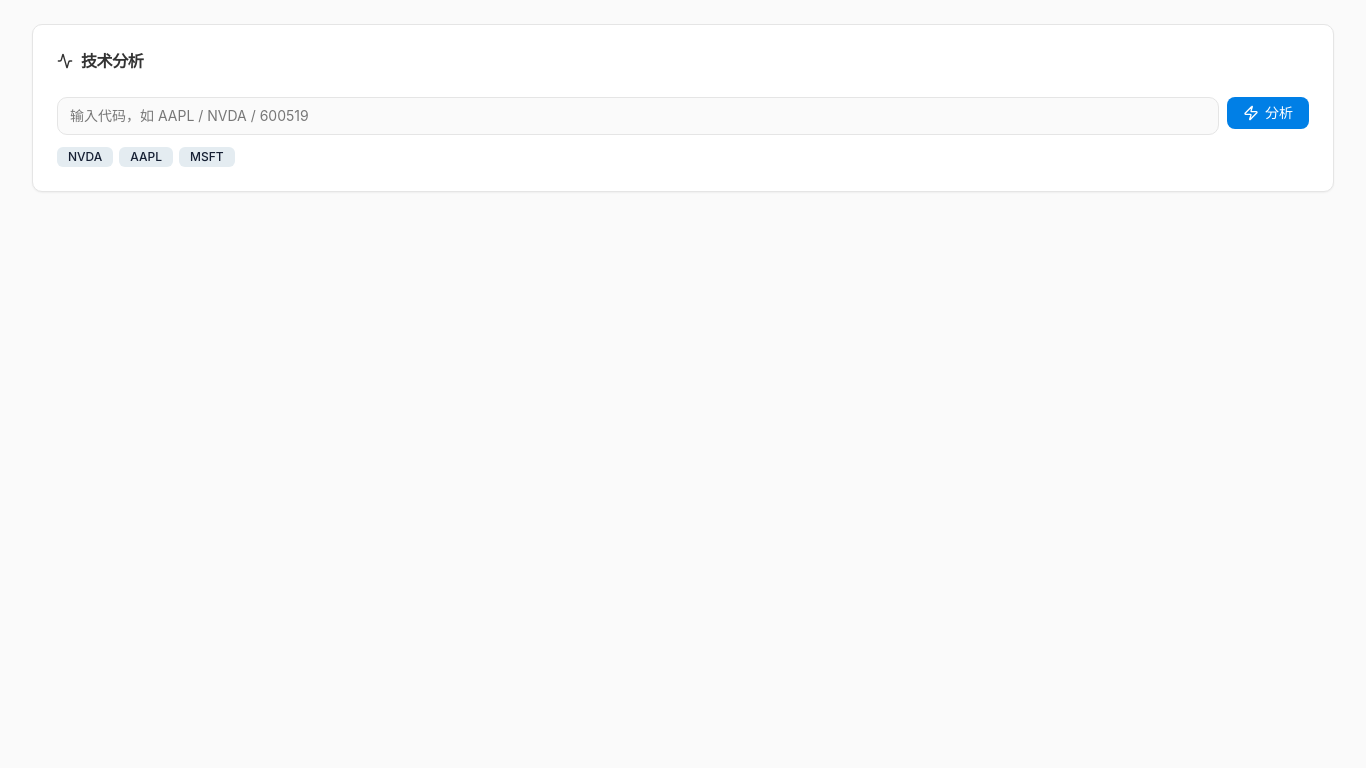
it: TechAnalysisPage › live_snapshot 为 null 时显示不可用
In the field with placeholder "输入代码，如 AAPL / NVDA / 600519": (638, 116) [57, 97, 1219, 135], type "AAPL"
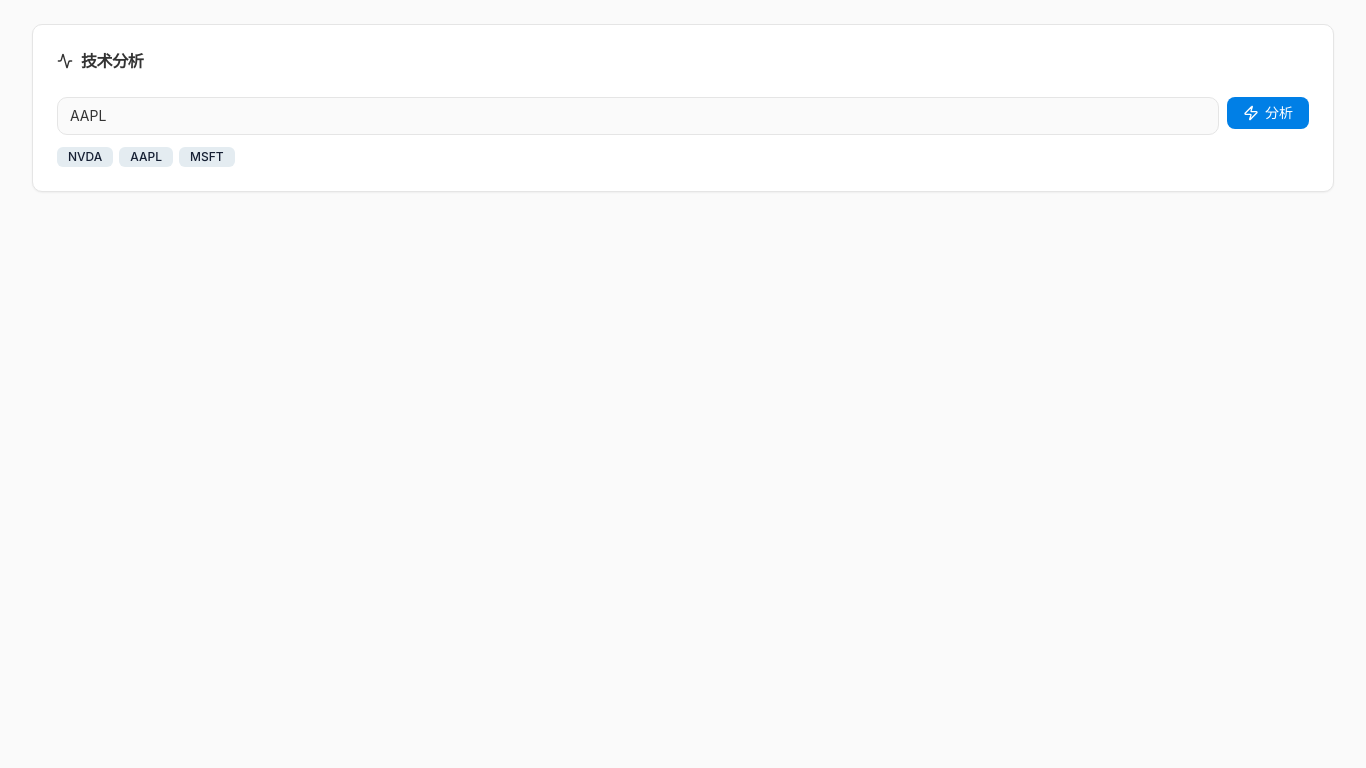
Click the button "分析": (1268, 113) [1227, 97, 1309, 129]
(page scrolled)
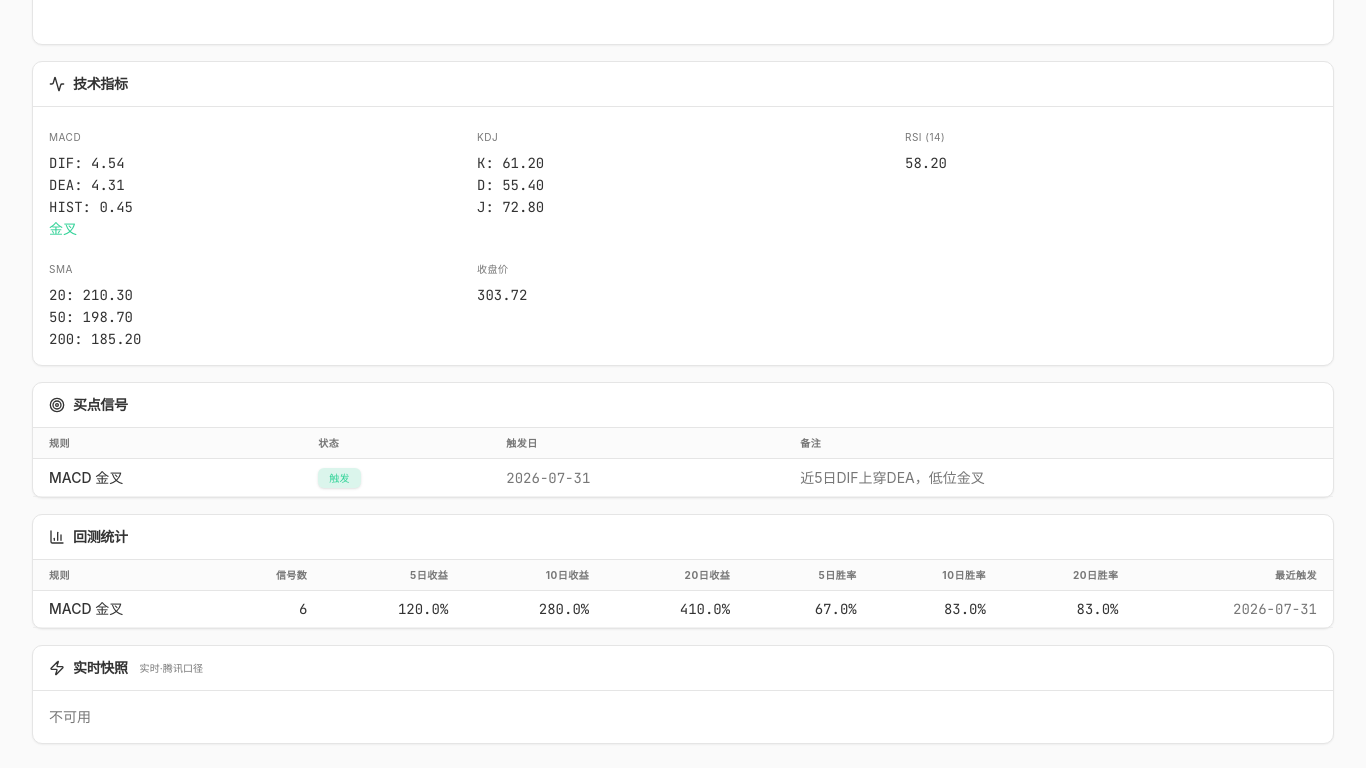
Now the text "不可用" is shown, box [49, 708, 91, 725]
